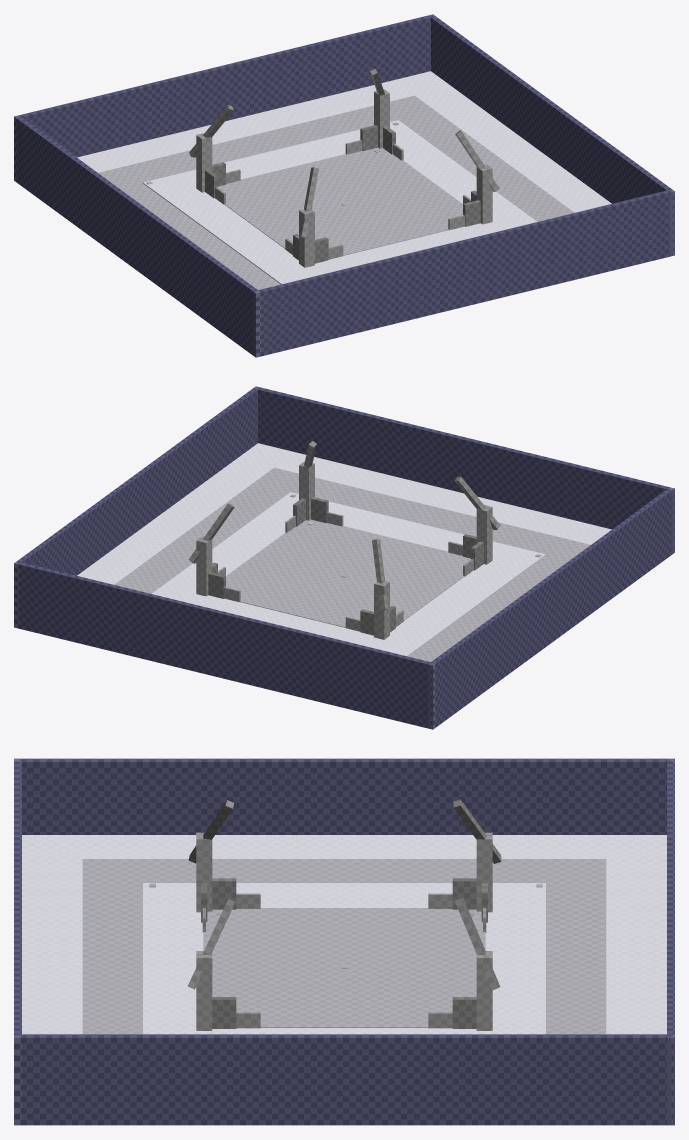
File: Juggy.gltf
The picture shows the model from 3 angles, top to bottom: view 1: azimuth 30°, elevation 25°; view 2: azimuth 150°, elevation 25°; view 3: azimuth 270°, elevation 25°; orthographic projection. The views are drawn at different scales.
Parts seen in each view (by area): view 1: Wall (×4), Brick (×4), Column (×4); view 2: Wall (×4), Brick (×4), Column (×4), ColumnTop; view 3: Brick (×4), Wall (×8), Column (×4), ColumnTop (×4).
Part boxes in pixels (<box>): Wall (×4): <box>14,14,674,357</box>; Brick (×4): <box>77,71,611,289</box>; Column (×4): <box>196,89,492,267</box>; Wall (×4): <box>14,386,674,729</box>; Brick (×4): <box>77,443,611,661</box>; Column (×4): <box>196,461,492,639</box>; ColumnTop: <box>372,539,388,609</box>; Brick (×4): <box>22,835,666,1034</box>; Wall (×8): <box>14,758,674,1125</box>; Column (×4): <box>196,832,492,1030</box>; ColumnTop (×4): <box>188,799,501,990</box>.
Size of the model in its own units: 410 by 93.67 by 410.
